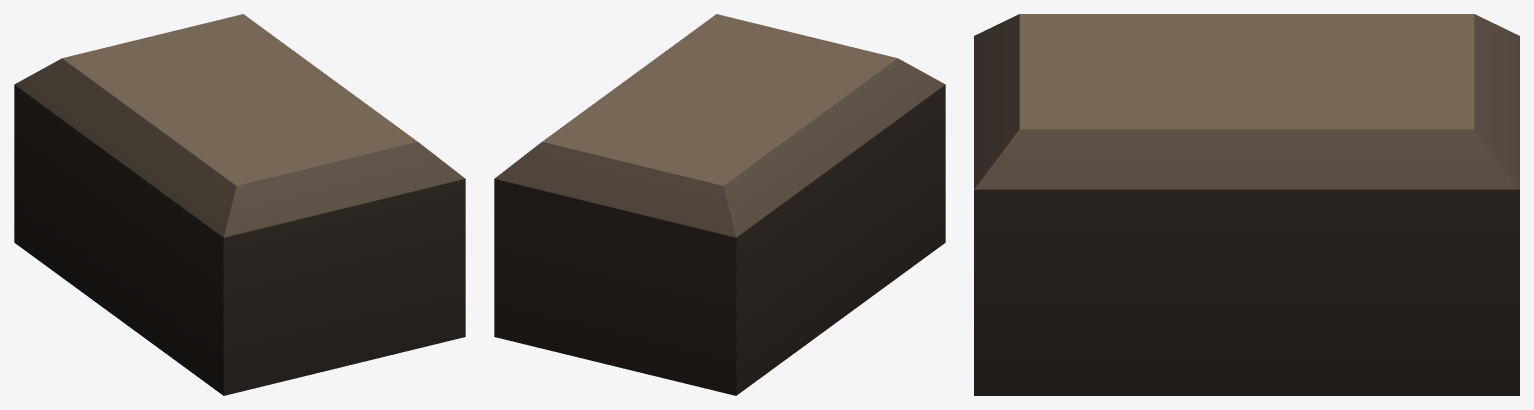
Rendered from pump.glb.
The picture shows the model from 3 angles, left to right: view 1: azimuth 30°, elevation 25°; view 2: azimuth 150°, elevation 25°; view 3: azimuth 270°, elevation 25°; orthographic projection. The views are drawn at different scales.
Parts seen in each view (by area): view 1: pump; view 2: pump; view 3: pump.
Part boxes in pixels (x1=…): pump: x1=14, y1=14, x2=465, y2=395; pump: x1=494, y1=14, x2=945, y2=395; pump: x1=974, y1=14, x2=1519, y2=395.
Bounding box in the file's own units: 0.16 × 0.12 × 0.24.
